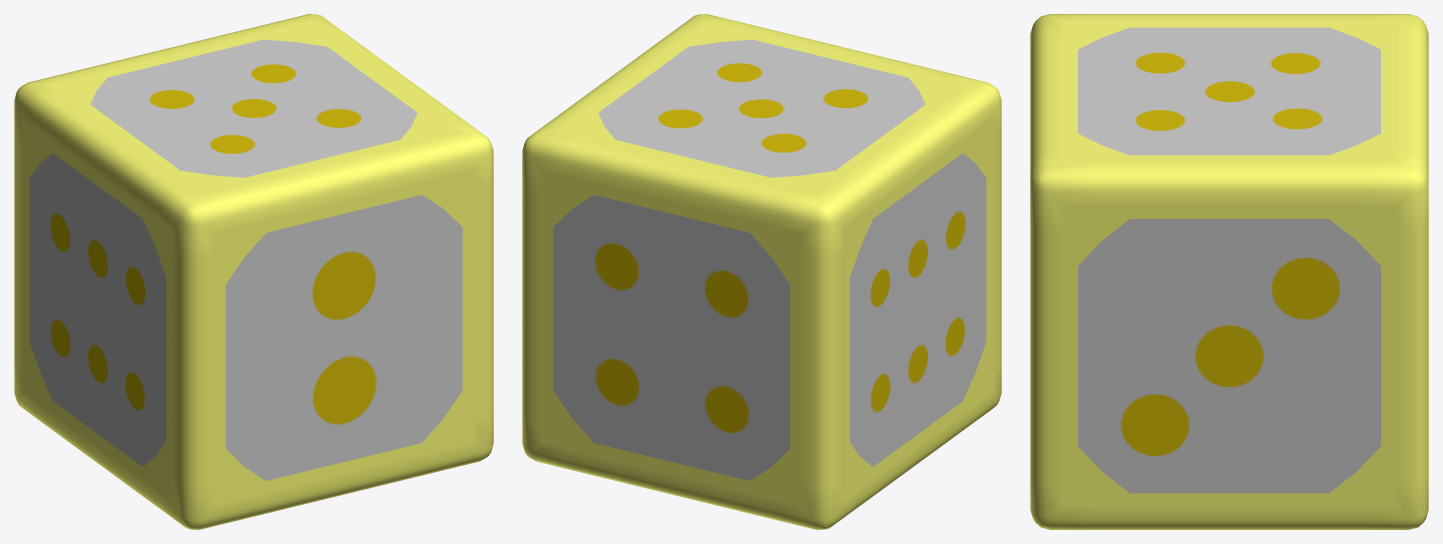
3 renders of one model, left to right at view 1: azimuth 30°, elevation 25°; view 2: azimuth 150°, elevation 25°; view 3: azimuth 270°, elevation 25°, orthographic. The views are drawn at different scales.
Parts seen in each view (by area): view 1: 立方体; view 2: 立方体; view 3: 立方体.
Boxes of the visible parts, x1,y1,x2,y2 form: 立方体: (14, 14, 493, 529); 立方体: (522, 14, 1001, 529); 立方体: (1030, 14, 1428, 529).
Size of the model in its own units: 2 by 2 by 2.
Materials: 2 (1 with a texture image).
